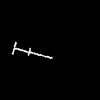double_crochet: (12, 42, 51, 58)
